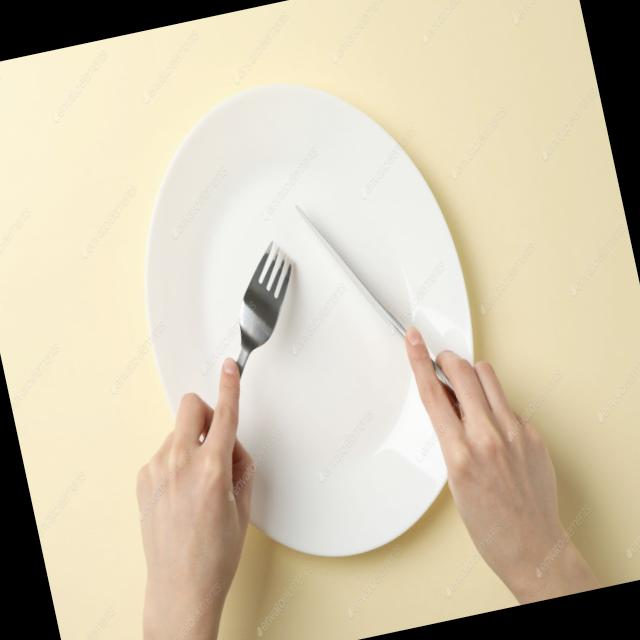fork: (166, 234, 346, 534)
